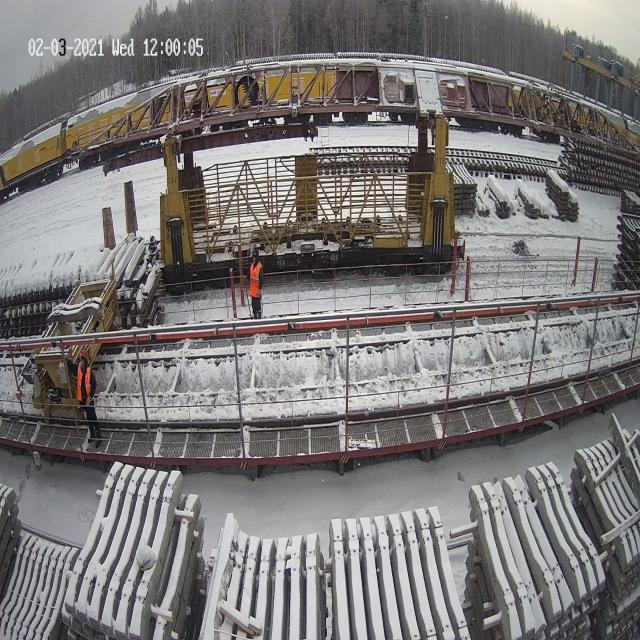Person: (77, 354, 102, 448), (248, 248, 263, 319)
